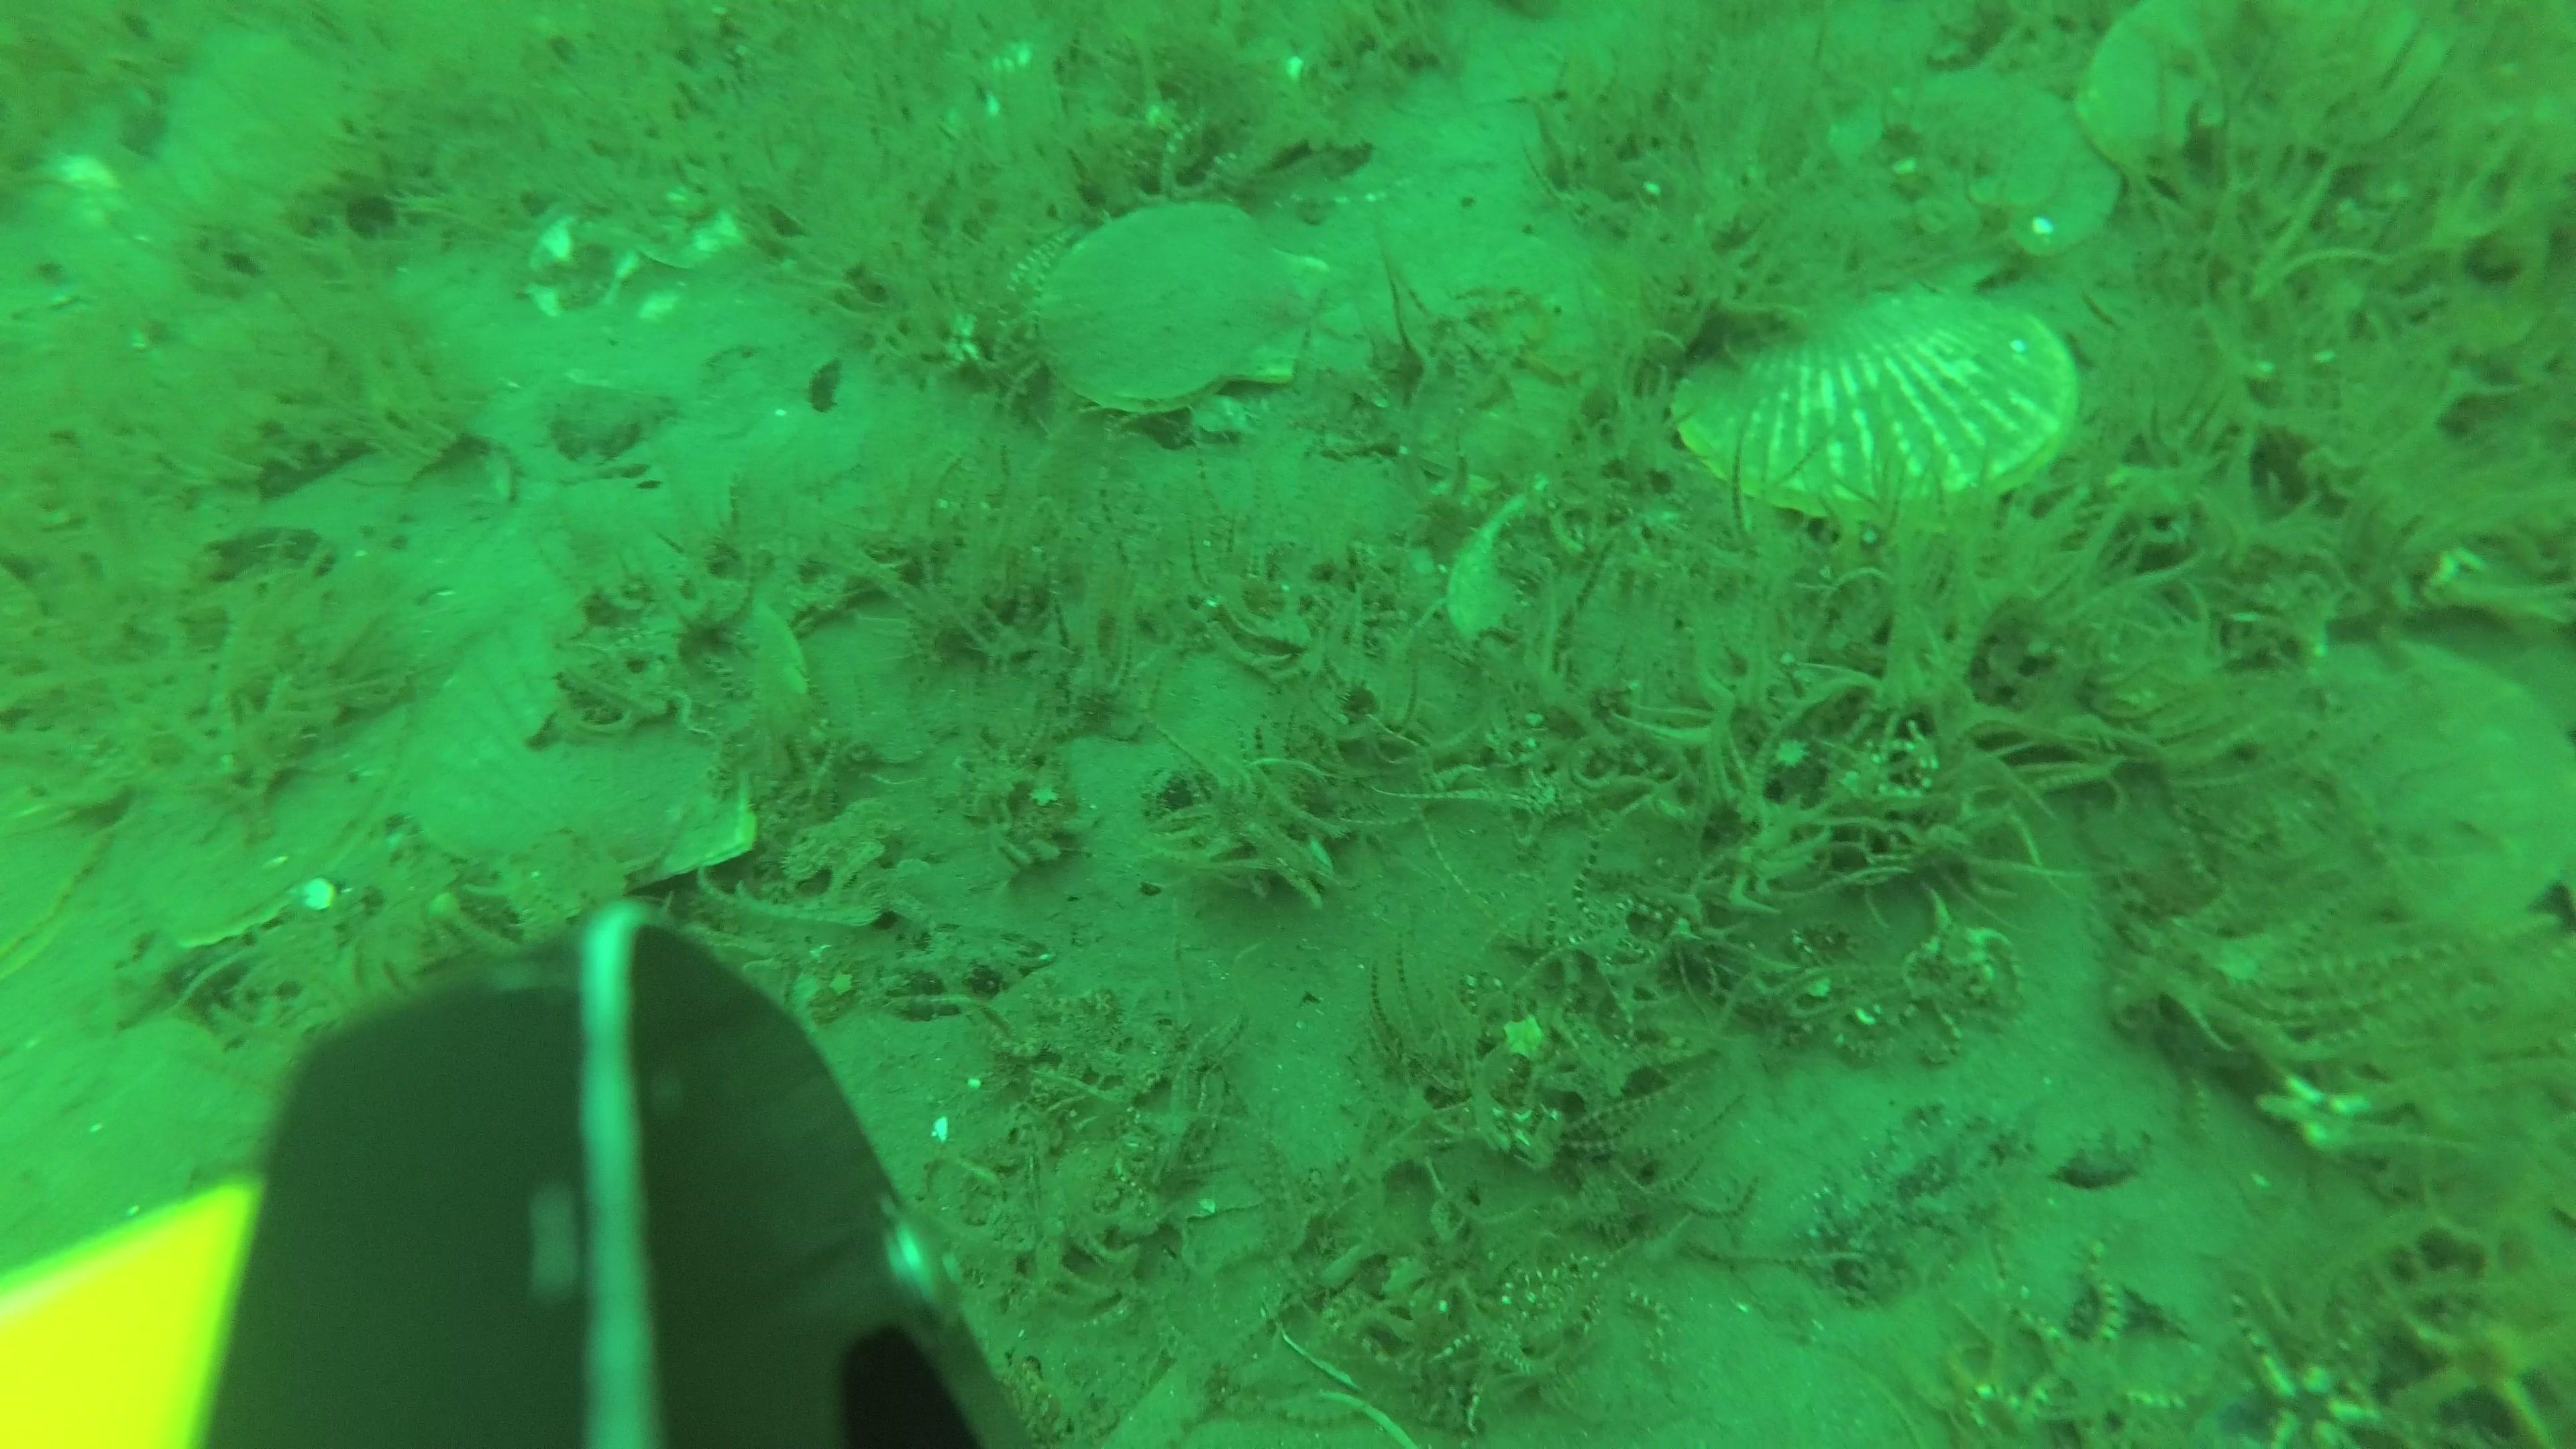scallop: (421, 579, 809, 913), (1667, 310, 2089, 510), (2337, 639, 2569, 924), (1031, 193, 1336, 409), (2079, 0, 2434, 165)
